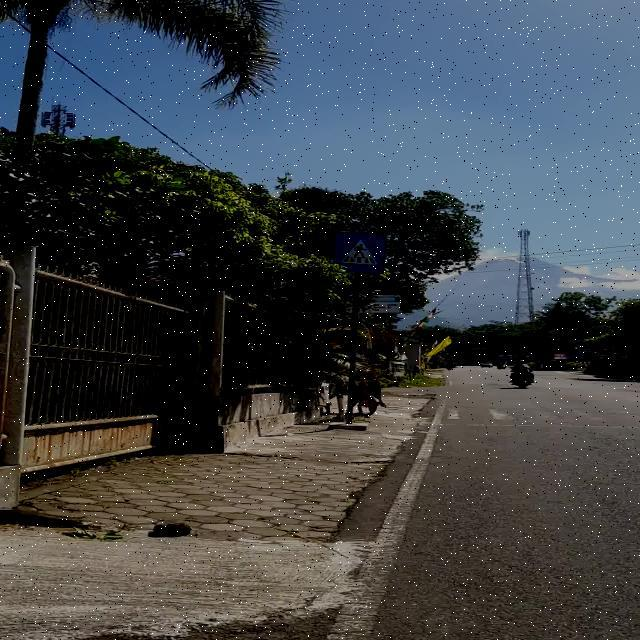Perintah Jalur Penyebrangan: (334, 232, 386, 274)
